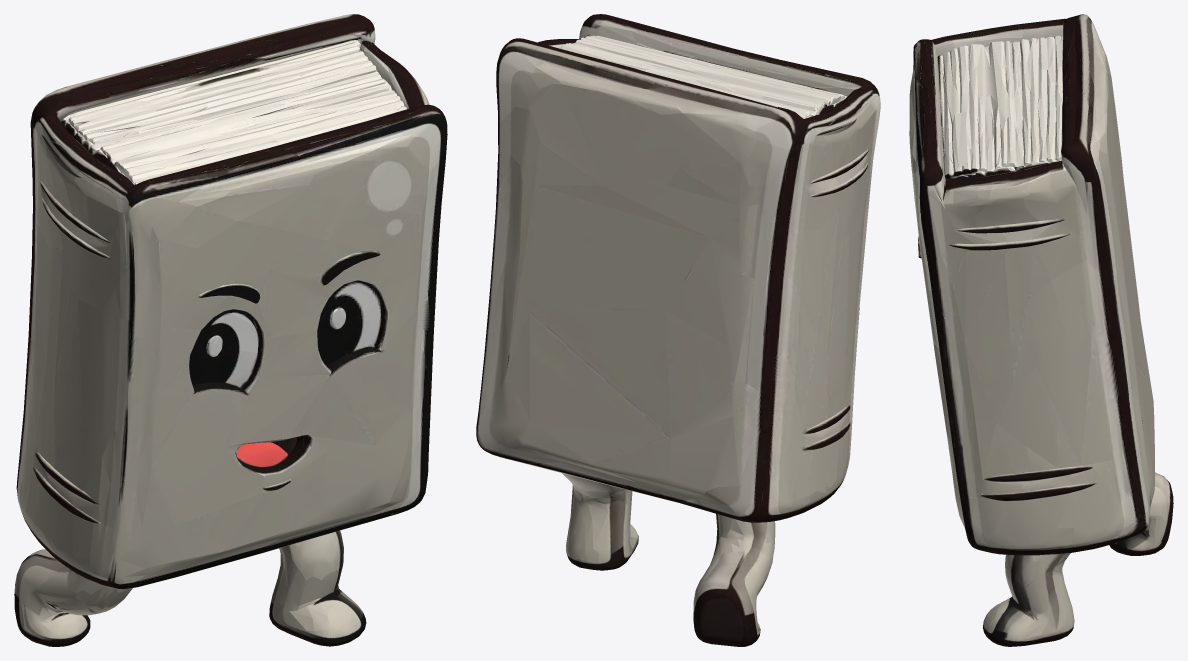
Rendered from creep_dasher.glb.
The picture shows the model from 3 angles, left to right: view 1: azimuth 30°, elevation 25°; view 2: azimuth 150°, elevation 25°; view 3: azimuth 270°, elevation 25°; orthographic projection. The views are drawn at different scales.
Size of the model in its own units: 1.23 by 1.9 by 0.87.
1 material, 1 textured.
